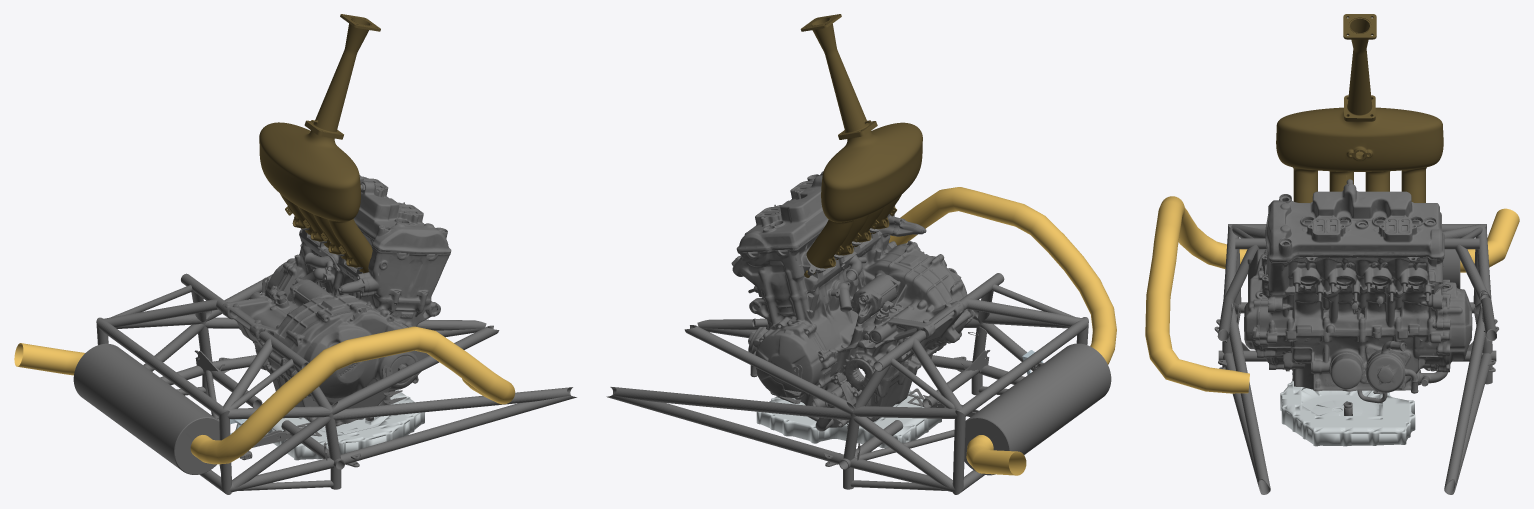
Rendered from engine.glb.
3 renders of one model, left to right at view 1: azimuth 30°, elevation 25°; view 2: azimuth 150°, elevation 25°; view 3: azimuth 270°, elevation 25°, orthographic.
Parts seen in each view (by area): view 1: FS22.3.110.00.BLOCK.AK.01, FS25.0.000.00.MAIN.1477, Bolid6.084, Bolid6.002, Bolid6.004, OilPan; view 2: FS22.3.110.00.BLOCK.AK.01, FS25.0.000.00.MAIN.1477, Bolid6.084, Bolid6.002, Bolid6.004, OilPan; view 3: FS22.3.110.00.BLOCK.AK.01, Bolid6.084, FS25.0.000.00.MAIN.1477, Bolid6.002, OilPan, Bolid6.004.
Part boxes in pixels (bbox=[...]): FS22.3.110.00.BLOCK.AK.01: bbox=[220, 175, 451, 426]; FS25.0.000.00.MAIN.1477: bbox=[96, 273, 576, 494]; Bolid6.084: bbox=[259, 14, 380, 273]; Bolid6.002: bbox=[14, 326, 515, 464]; Bolid6.004: bbox=[73, 343, 219, 474]; OilPan: bbox=[266, 389, 424, 460]; FS22.3.110.00.BLOCK.AK.01: bbox=[731, 171, 975, 431]; FS25.0.000.00.MAIN.1477: bbox=[606, 273, 1088, 494]; Bolid6.084: bbox=[800, 14, 922, 277]; Bolid6.002: bbox=[889, 187, 1116, 475]; Bolid6.004: bbox=[964, 343, 1111, 475]; OilPan: bbox=[756, 390, 941, 448]; FS22.3.110.00.BLOCK.AK.01: bbox=[1244, 179, 1472, 393]; Bolid6.084: bbox=[1276, 14, 1443, 202]; FS25.0.000.00.MAIN.1477: bbox=[1217, 224, 1496, 494]; Bolid6.002: bbox=[1145, 196, 1519, 393]; OilPan: bbox=[1280, 381, 1415, 446]; Bolid6.004: bbox=[1443, 249, 1460, 288].
Size of the model in its own units: 19.63 by 17.16 by 14.26.
